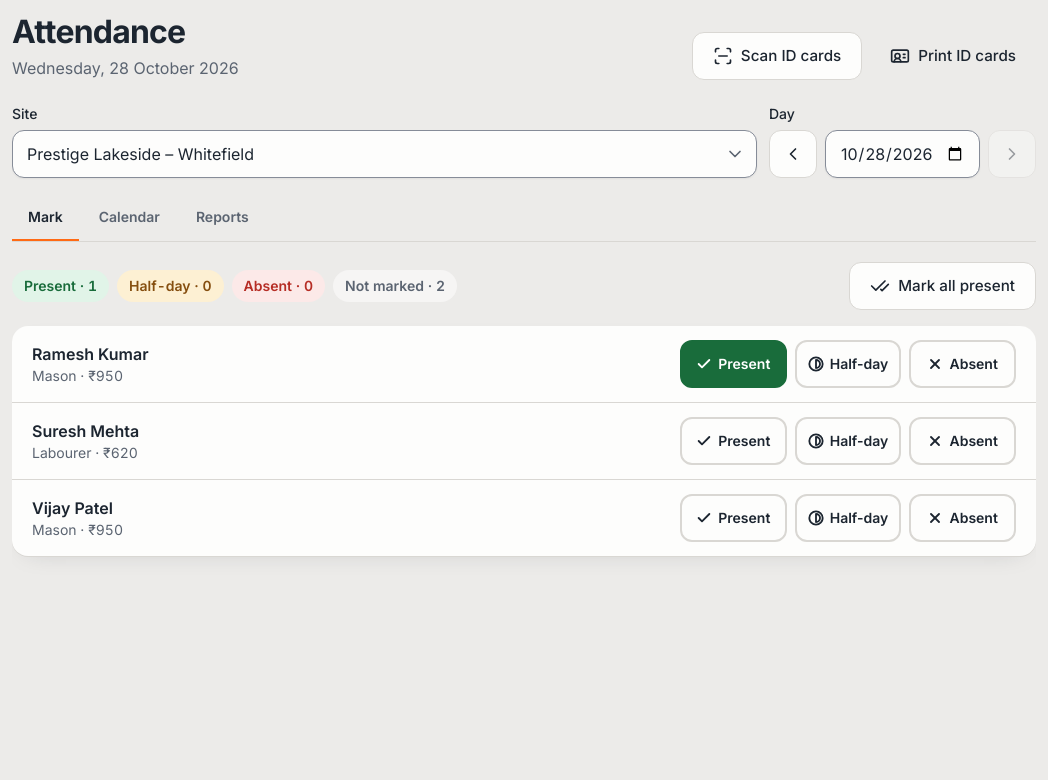
Test: AttendancePage › one tap marks a worker; the save bar counts changes and saves only them
This screenshot has width=1048, height=780.
Expected: the element "Ramesh Kumar" is shown, x1=12 y1=326 x2=1036 y2=402
Click the button "Half-day" in the row of "Suresh Mehta" at [848, 441], box x1=795 y1=417 x2=901 y2=465
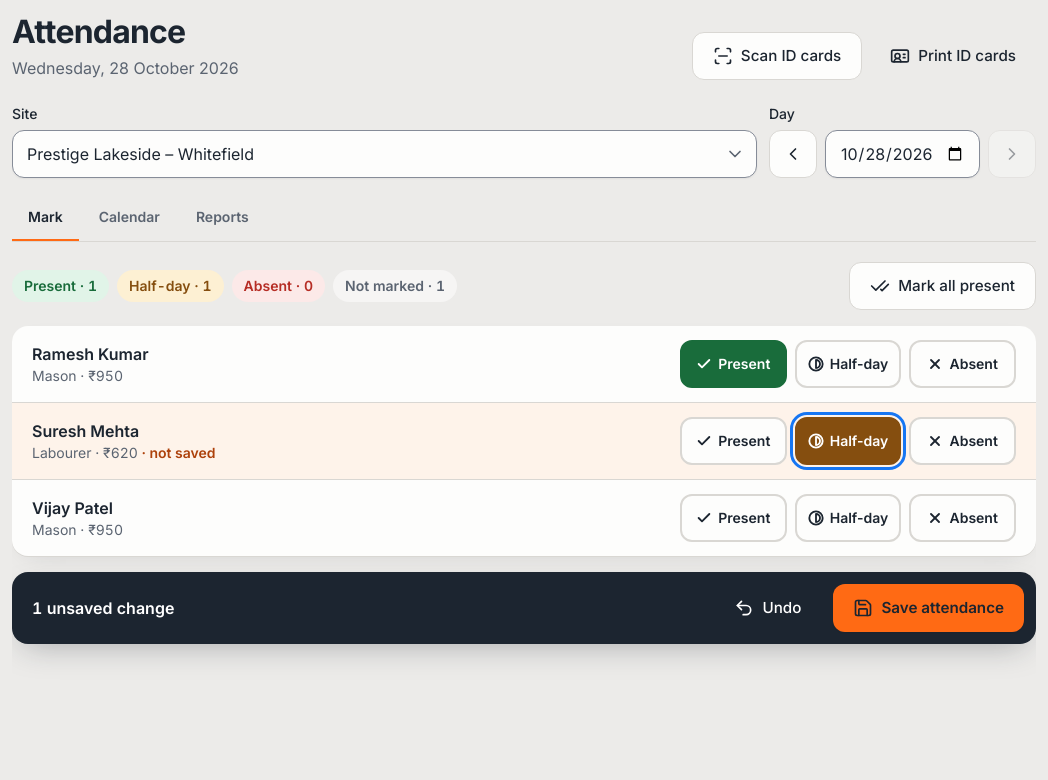
Click the button "Absent" in the row of "Vijay Patel" at [963, 518], box x1=909 y1=494 x2=1016 y2=542
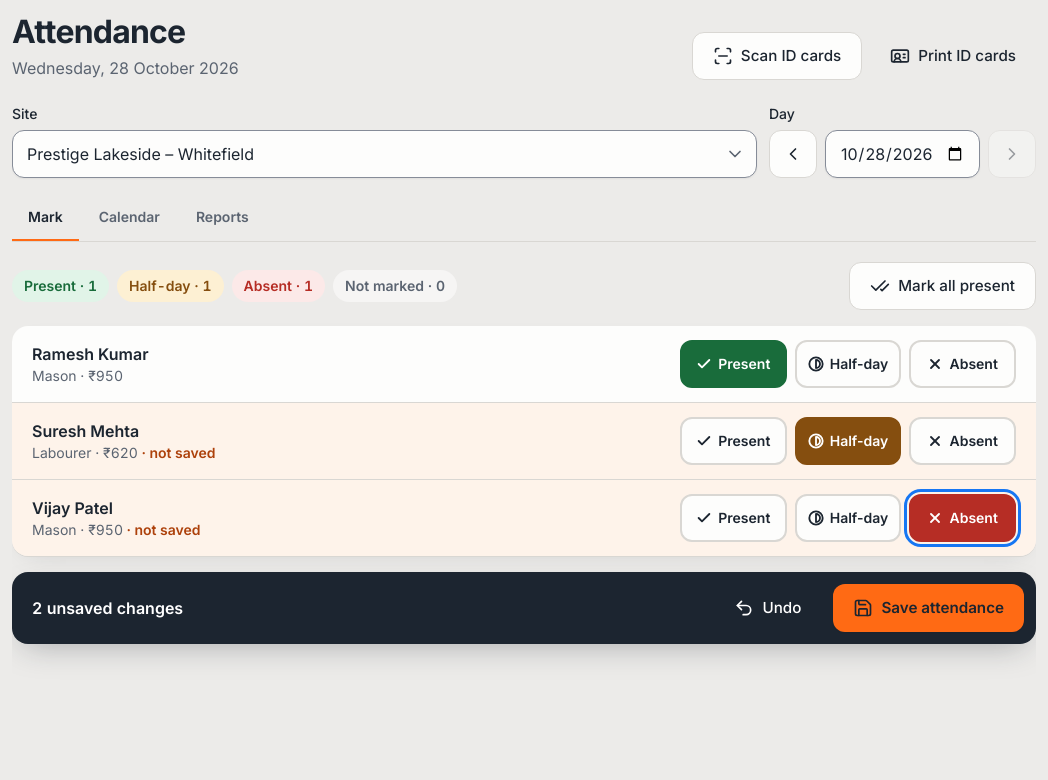
Expected: the text "2 unsaved changes" is shown, x1=32 y1=598 x2=183 y2=618
Click the button "Save attendance" at [929, 608], box x1=833 y1=584 x2=1024 y2=632
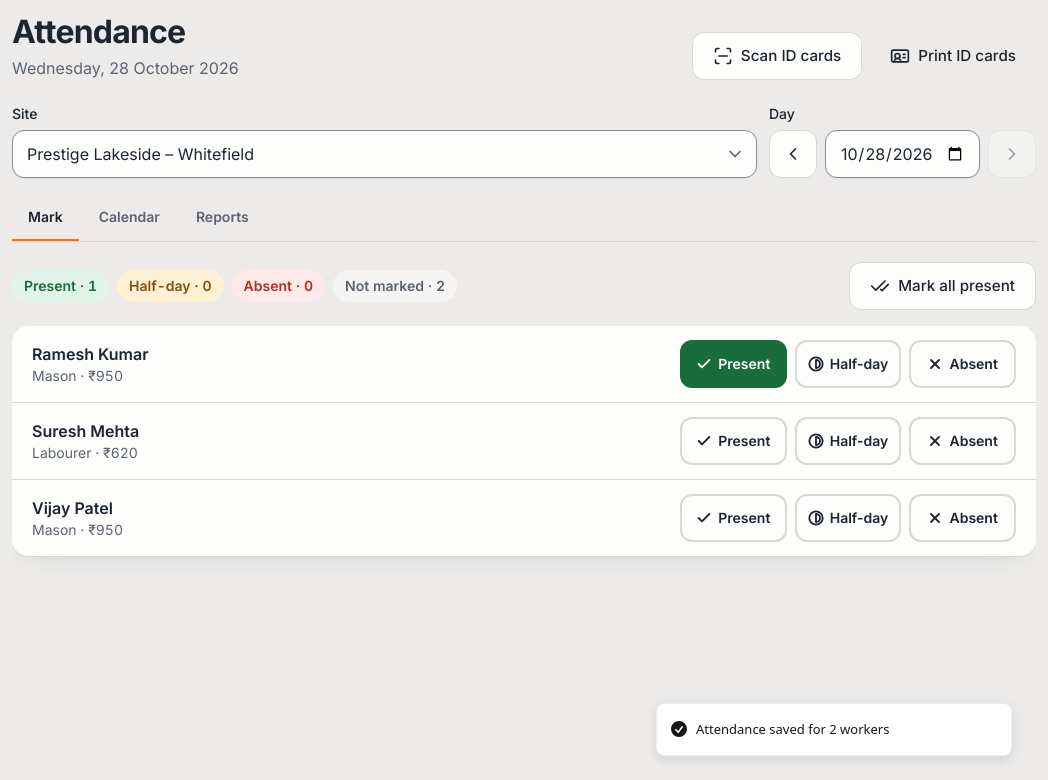
Expected: the text "Attendance saved for 2 workers" is shown, x1=696 y1=720 x2=889 y2=739
